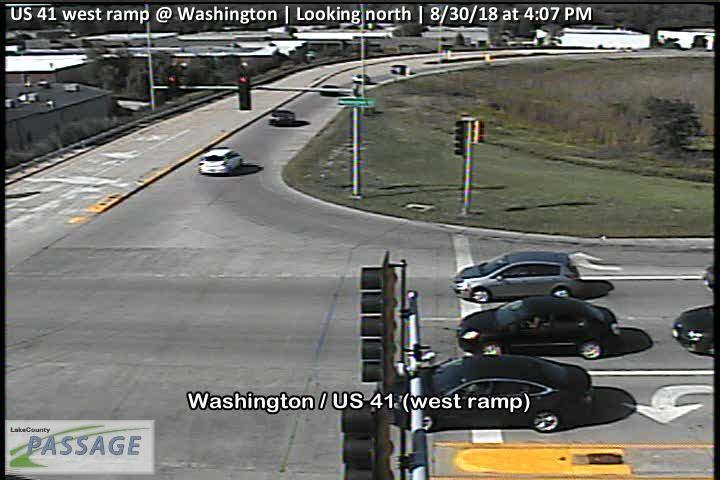SUV: (450, 248, 580, 300), (198, 146, 245, 177), (390, 64, 416, 76)
Sedan: (385, 353, 596, 430), (459, 295, 620, 361), (268, 109, 298, 128), (319, 83, 340, 98), (351, 72, 372, 85)
